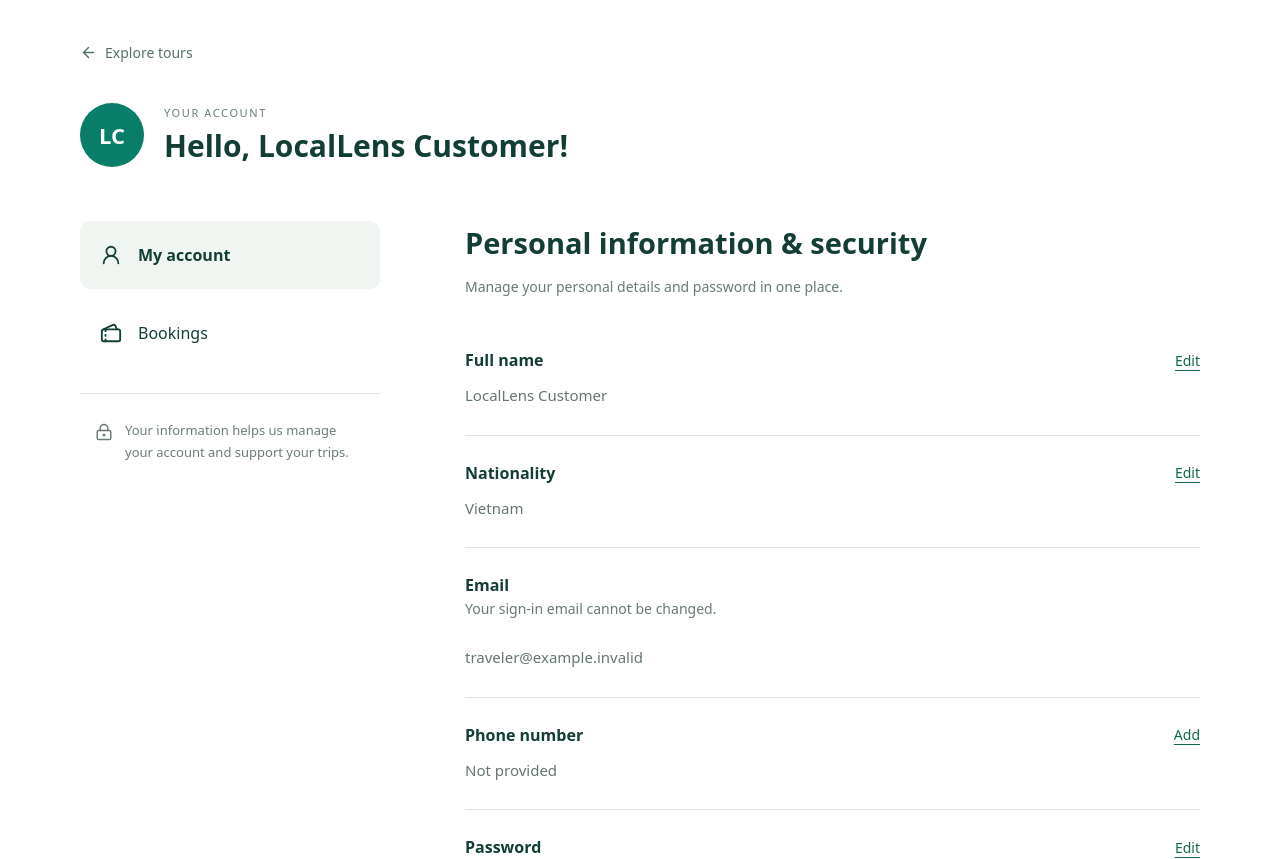
it: persists a demo name edit while preserving phone null
The image size is (1280, 859).
Click the button with aria-label "Edit Full name". click: (1187, 360)
box: [1175,350,1200,371]
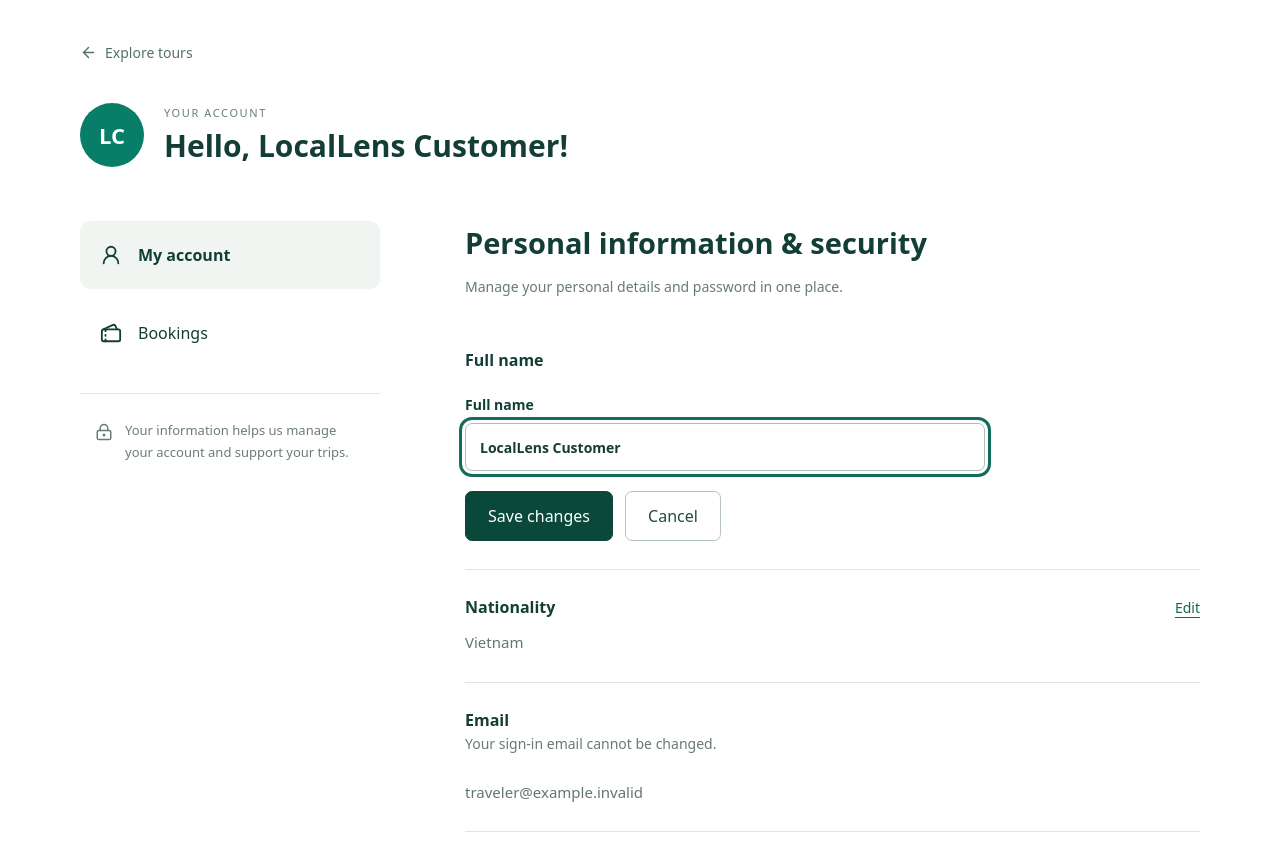
Replace the text in the field labelled "Full name" with "Updated Traveler". click: (725, 447)
box: [465,423,985,471]
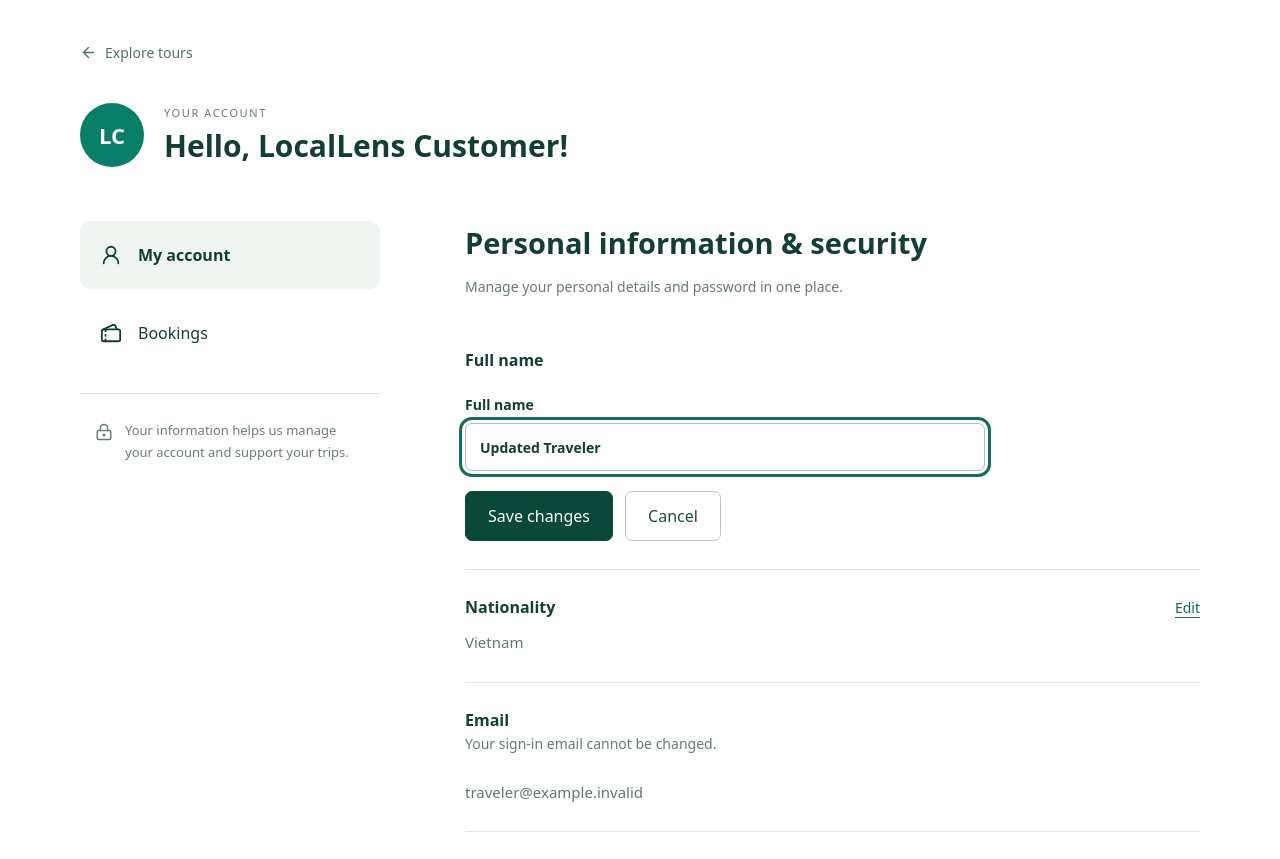
Click the button "Save changes". click: (539, 516)
box: [465,491,613,541]
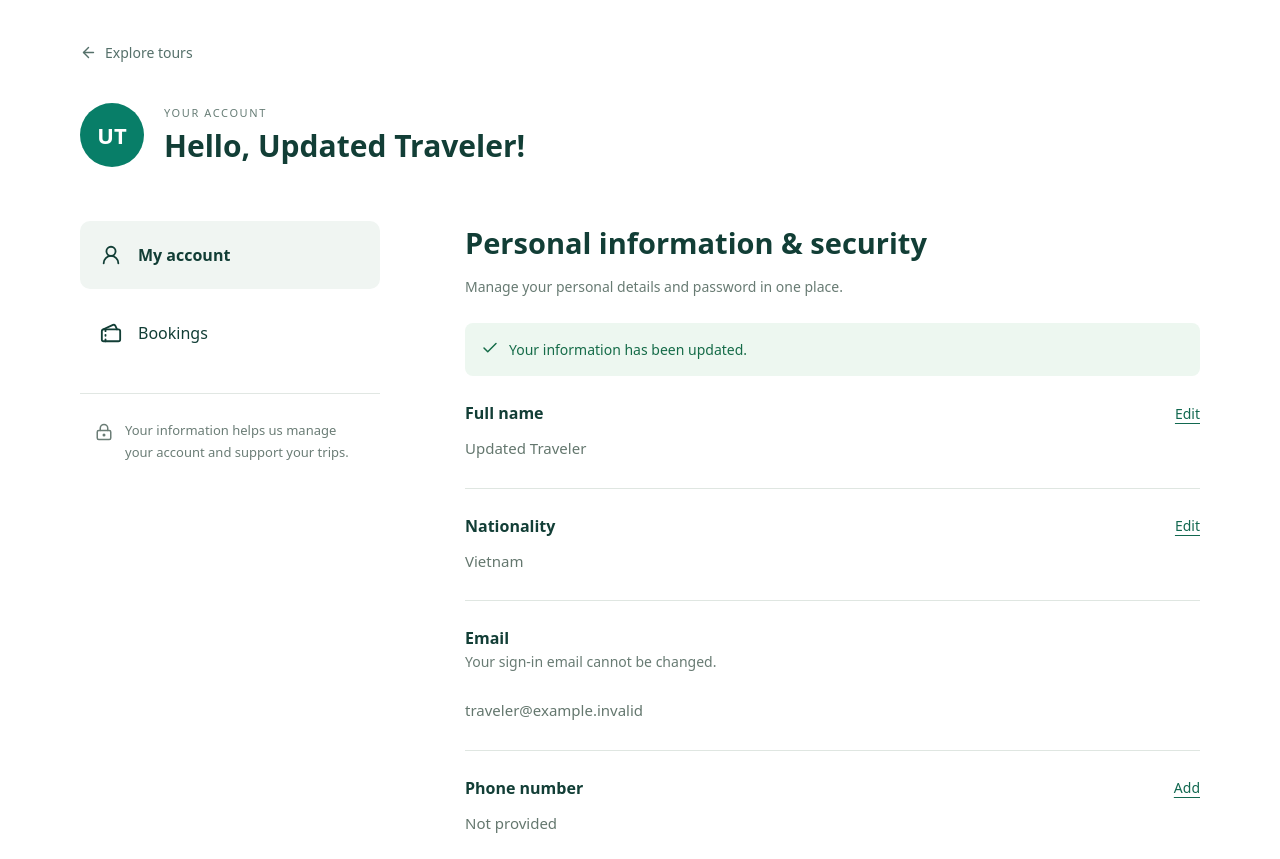
Check: the heading "Hello, Updated Traveler!" is shown, box [164,126,525,165]
Check: the message reads "Your information has been updated.", box [509,340,747,359]
